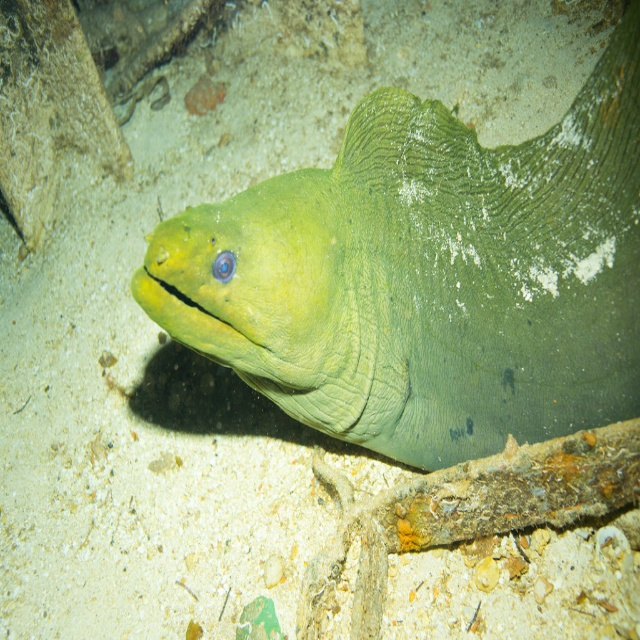Fish: (127, 0, 640, 470)
